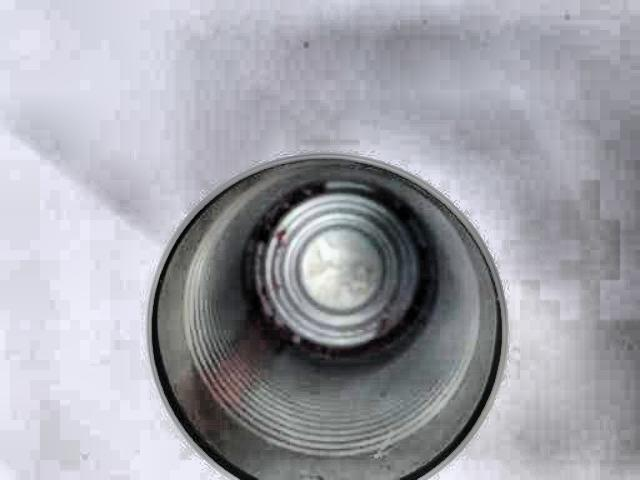Almennt: (129, 143, 514, 480)
